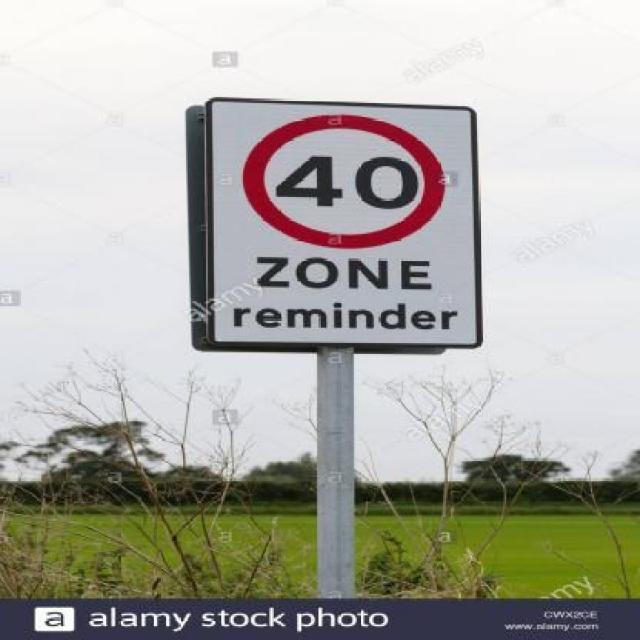forb_speed_over_40: (246, 115, 446, 248)
